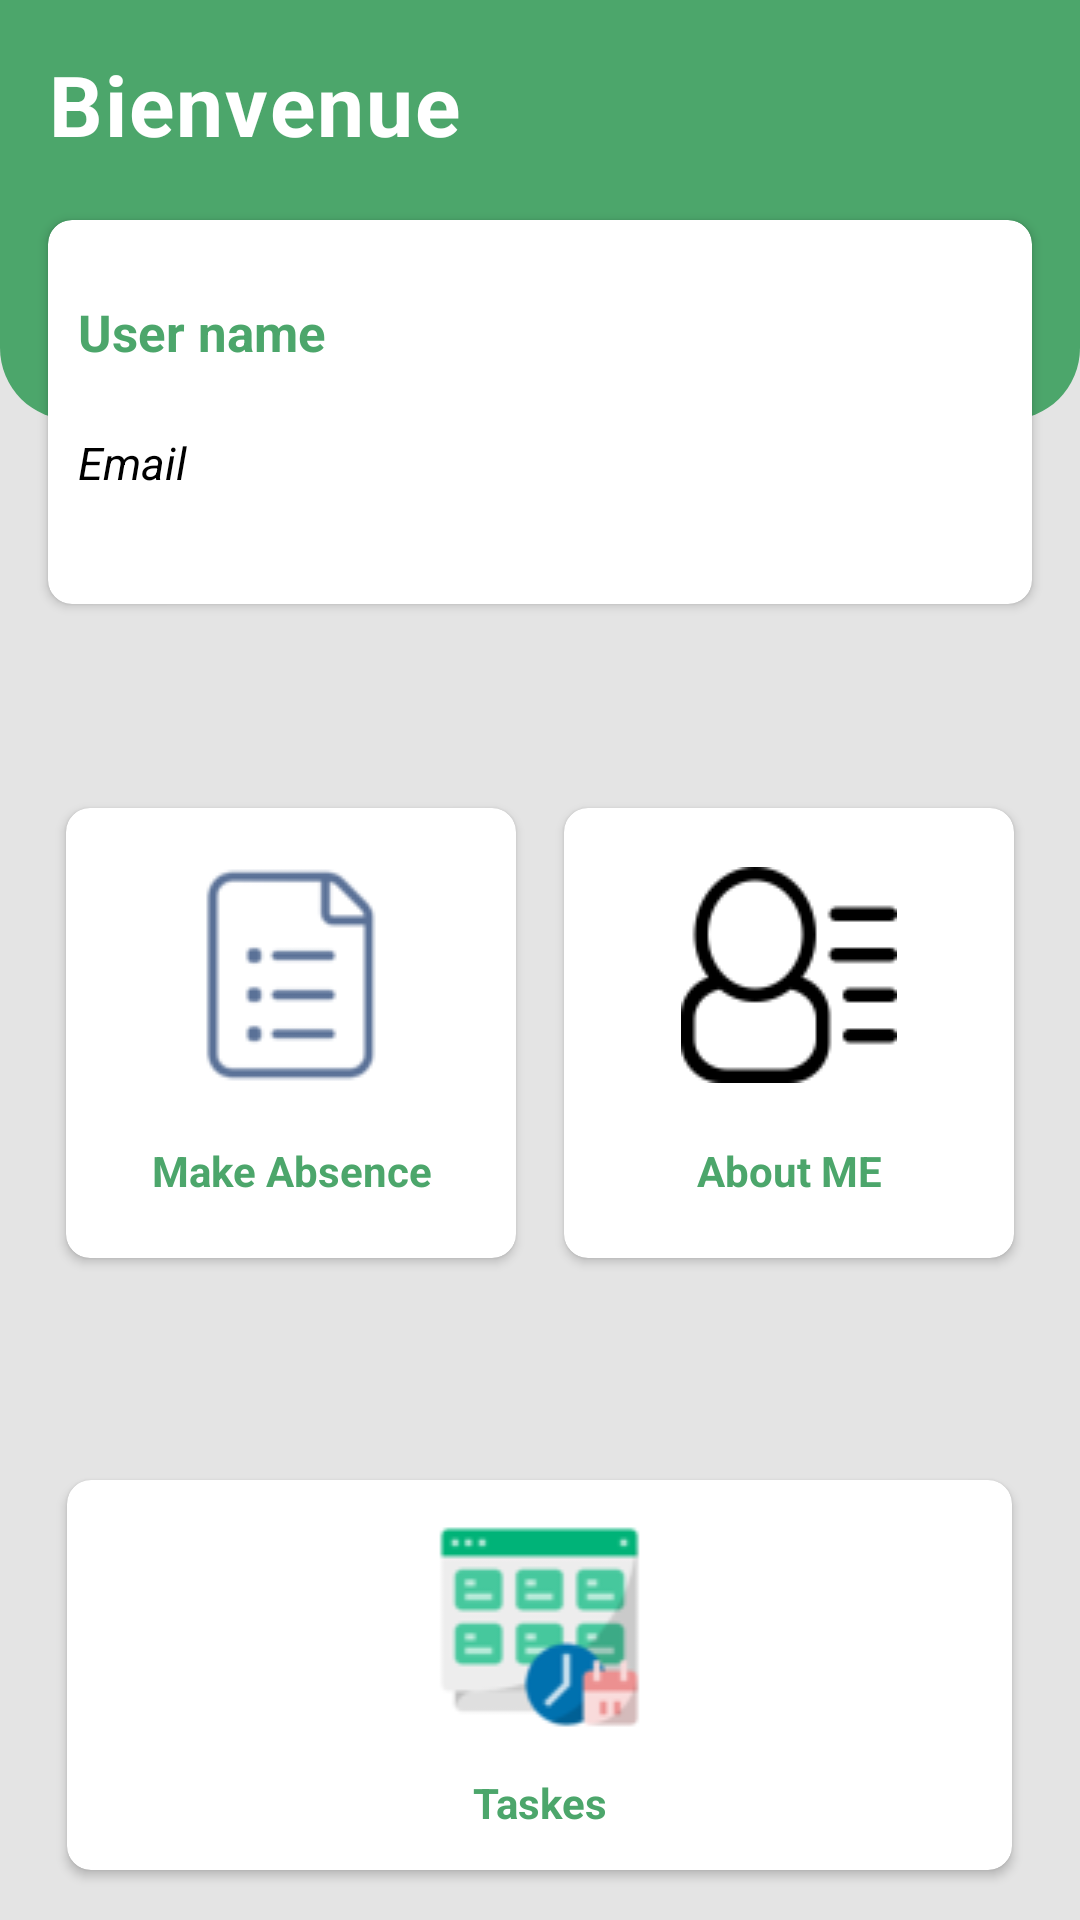

Where to tap for icons on this 1080px x 1920px app screen, as (x=x, y=y):
calendarmonitor: (x=539, y=1627)
clientinfo: (x=789, y=975)
listclient: (x=290, y=975)
